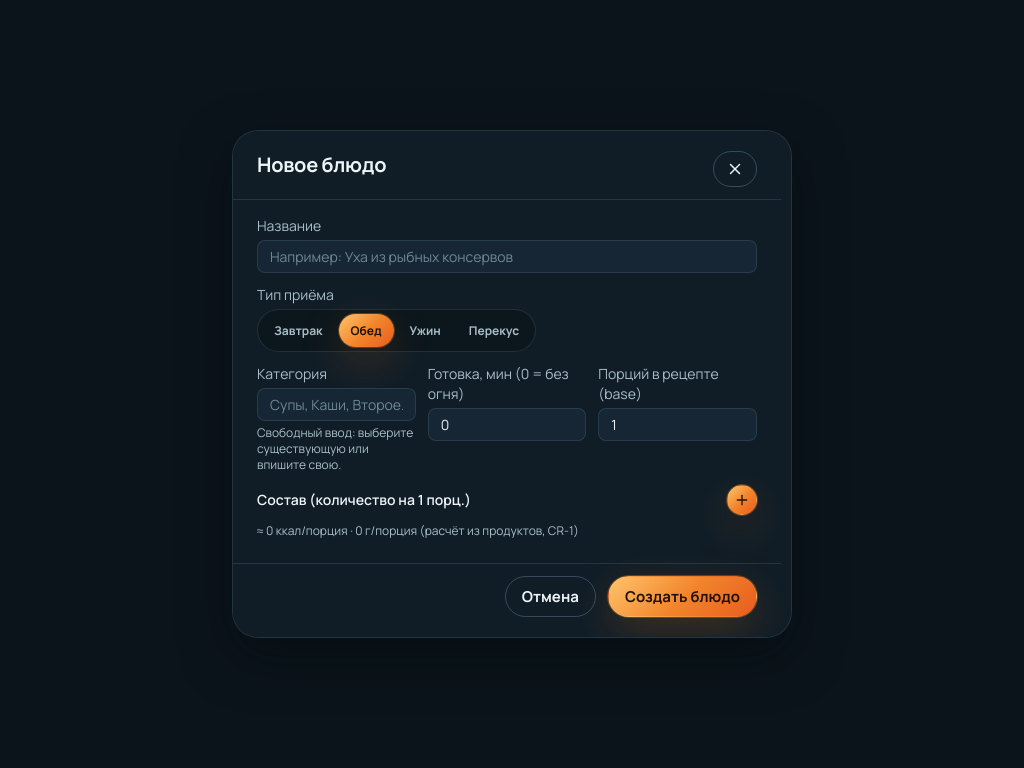
Test: RecipeEditorModal — создание › валидация: пустое имя и пустой состав блокируют сохранение
This screenshot has width=1024, height=768.
Step 1. Click the button "Создать блюдо" → click(682, 596), box [608,576,757,617]
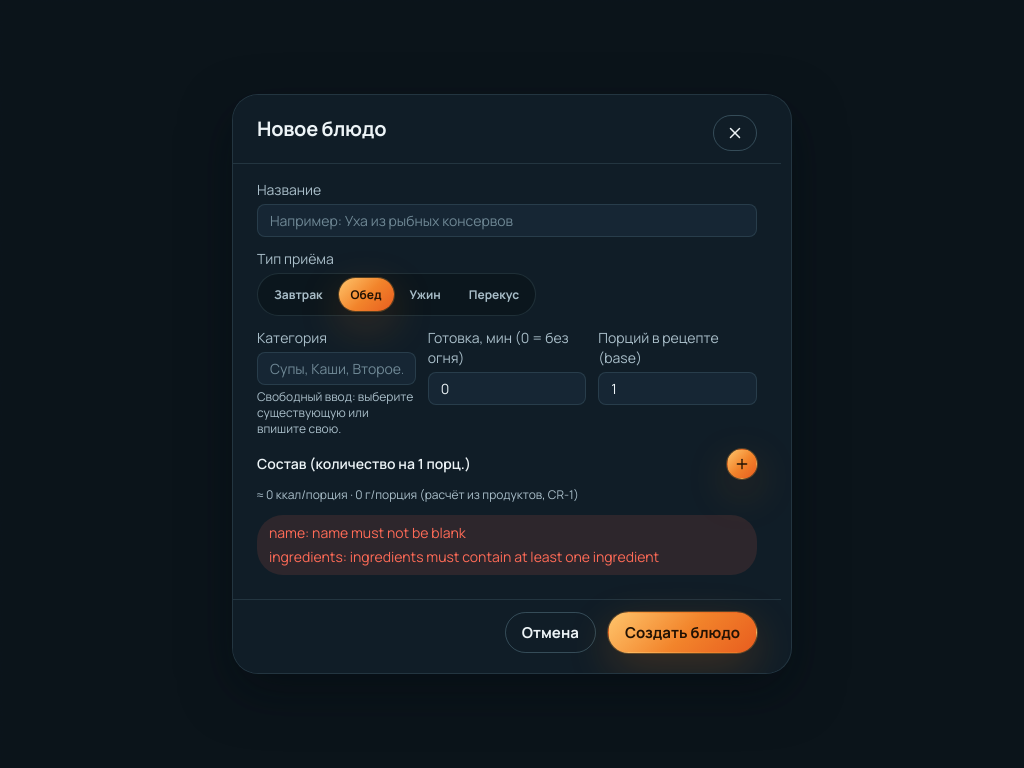
Result: the list item "name: name must not be blank" is shown at [269,523,466,542]
Result: the list item "at least one ingredient" is shown at [269,547,659,566]
